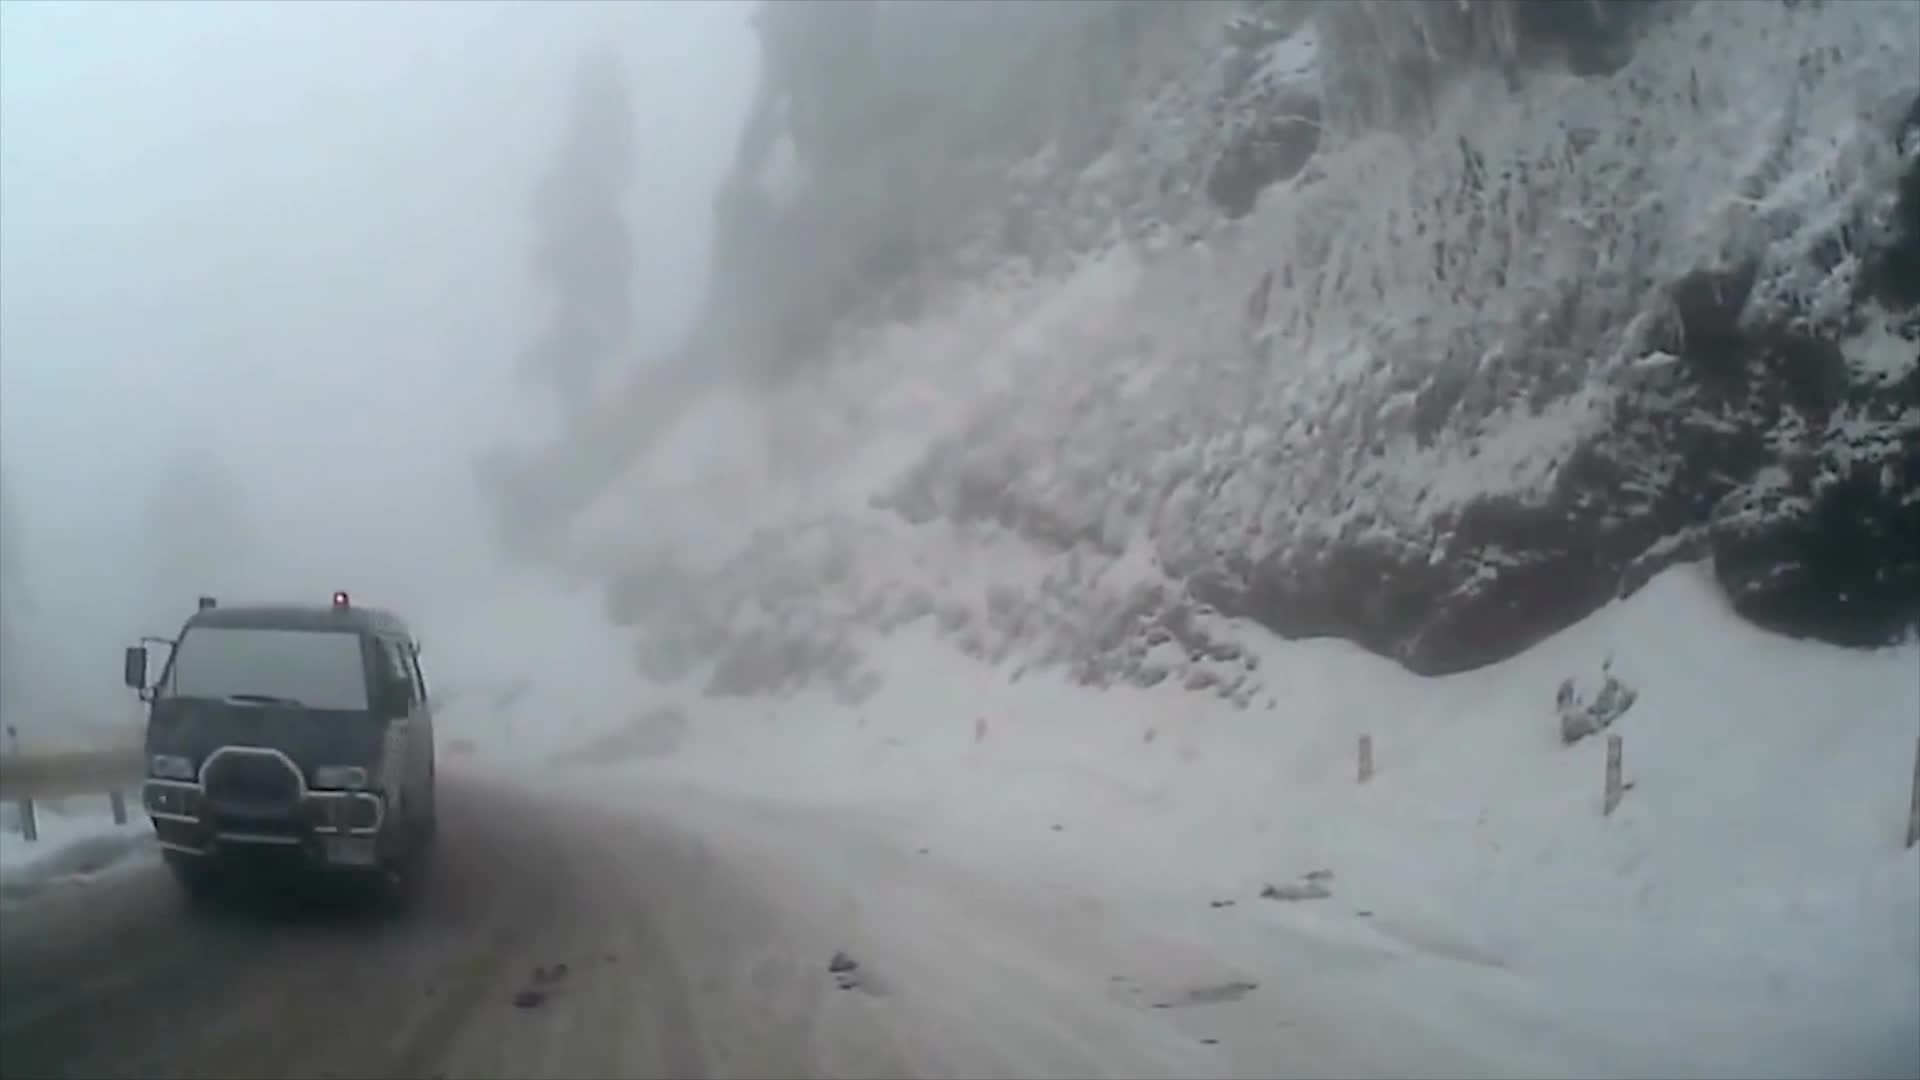vehicle: (121, 592, 439, 911)
